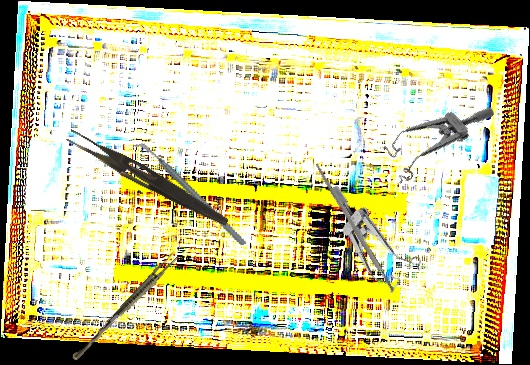Chopper: (132, 118, 248, 270)
Dressing Forceps: (62, 128, 234, 229)
Scalpel Handle: (313, 162, 396, 294)
Speculum: (303, 184, 433, 301), (373, 75, 497, 193)
Tissue Forceps: (70, 249, 181, 365)
